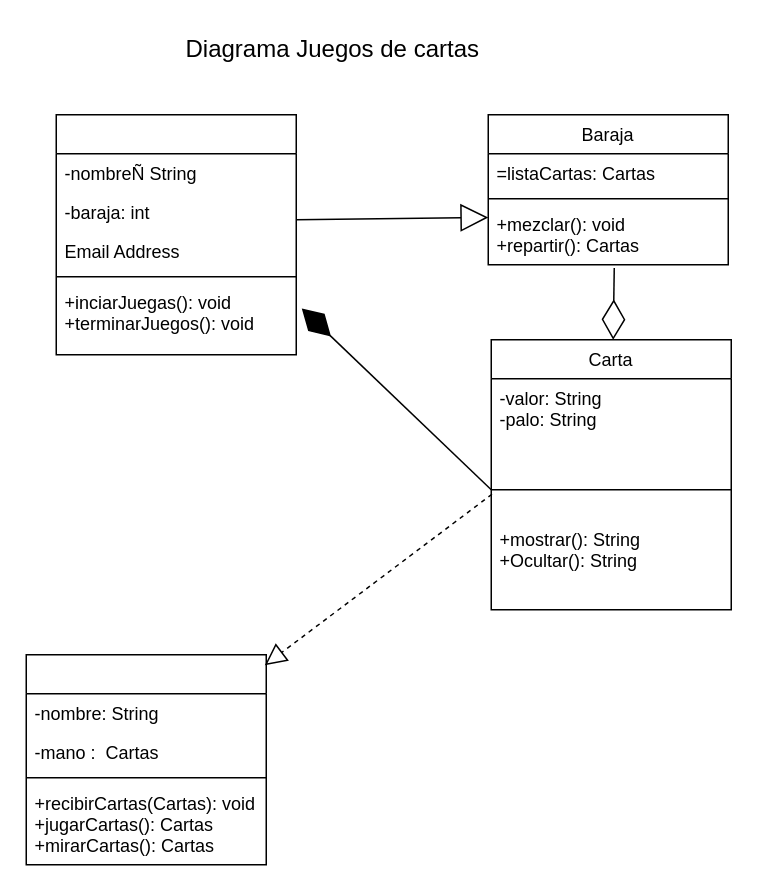
Image size: 758x894. Some labels were removed from this diagram. The box of each missing label's shape, as (x1, y1, x2, y2) in pixels:
JuegoDeCartas: (55, 113, 296, 355)
Student: (25, 653, 266, 865)
